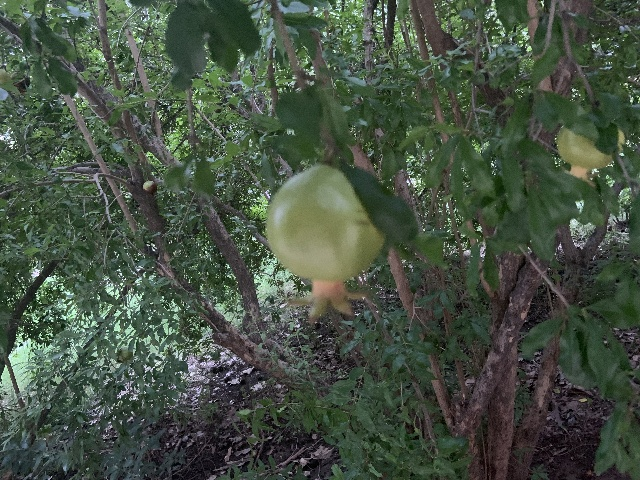mid-growth: (263, 163, 385, 323), (557, 125, 626, 185)
